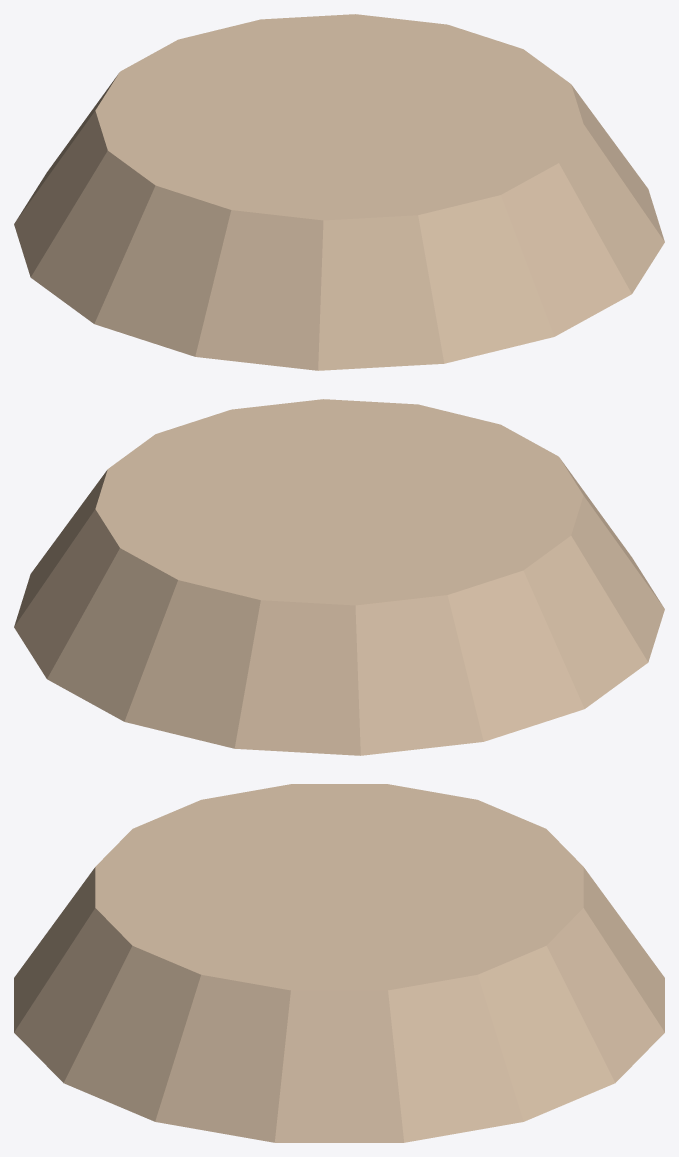
Rendered from 1to0p5collider.obj.
3 views of the same model, one above another, from view 1: azimuth 30°, elevation 25°; view 2: azimuth 150°, elevation 25°; view 3: azimuth 270°, elevation 25° (orthographic).
Visible parts, largest first — view 1: collider; view 2: collider; view 3: collider.
Boxes of the visible parts, x1,y1,x2,y2 form: collider: [14, 14, 664, 370]; collider: [14, 399, 664, 755]; collider: [14, 784, 664, 1142].
Bounding box in the file's own units: 1.25 × 0.25 × 1.25.
